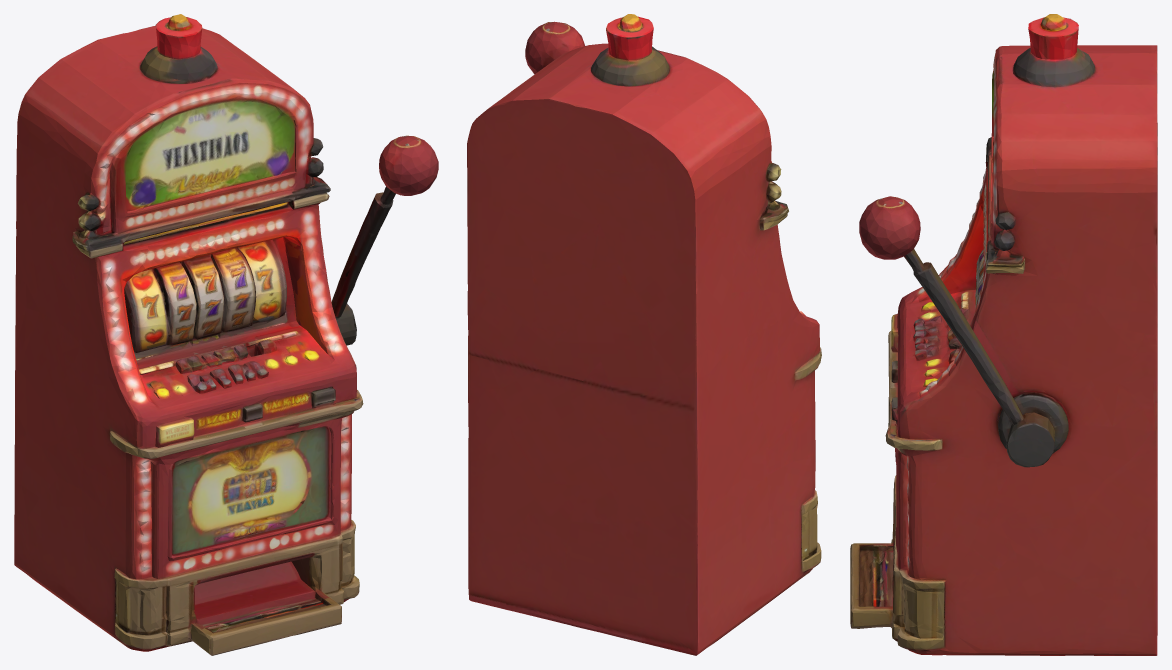
Rendered from casion_slot-machine.glb.
The picture shows the model from 3 angles, left to right: view 1: azimuth 30°, elevation 25°; view 2: azimuth 150°, elevation 25°; view 3: azimuth 270°, elevation 25°; orthographic projection. The views are drawn at different scales.
Visible parts, largest first — view 1: temp_Material.001_0; view 2: temp_Material.001_0; view 3: temp_Material.001_0.
Part boxes in pixels (bbox=[...]): temp_Material.001_0: bbox=[14, 14, 438, 655]; temp_Material.001_0: bbox=[467, 14, 821, 655]; temp_Material.001_0: bbox=[850, 14, 1157, 655].
Size of the model in its own units: 37015 by 65328 by 31056.
Materials: 1 (1 with a texture image).
